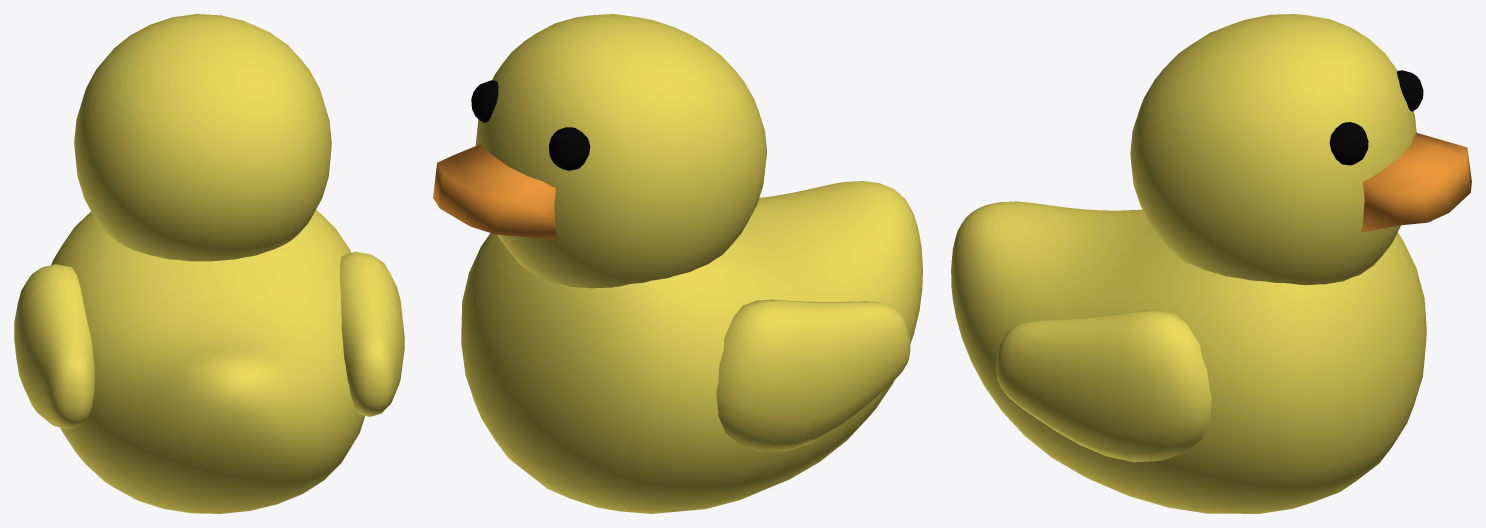
File: duck.fbx
3 renders of one model, left to right at view 1: azimuth 30°, elevation 25°; view 2: azimuth 150°, elevation 25°; view 3: azimuth 270°, elevation 25°, orthographic. The views are drawn at different scales.
Visible parts, largest first — view 1: Cube.024; view 2: Cube.024; view 3: Cube.024.
Boxes of the visible parts, x1,y1,x2,y2 form: Cube.024: (14,14,404,513); Cube.024: (433,14,922,513); Cube.024: (951,14,1471,513).
Size of the model in its own units: 199 by 234 by 233.
